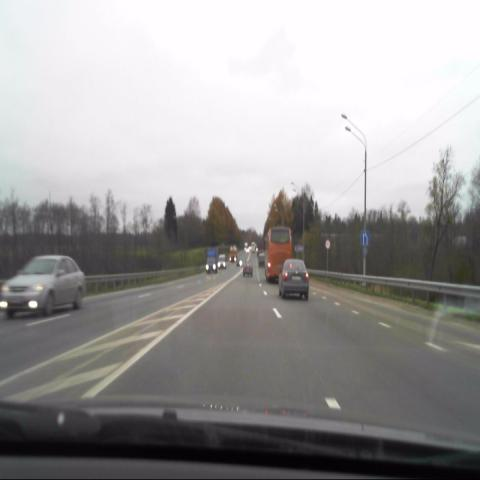5_15_5: (360, 231, 368, 245)
